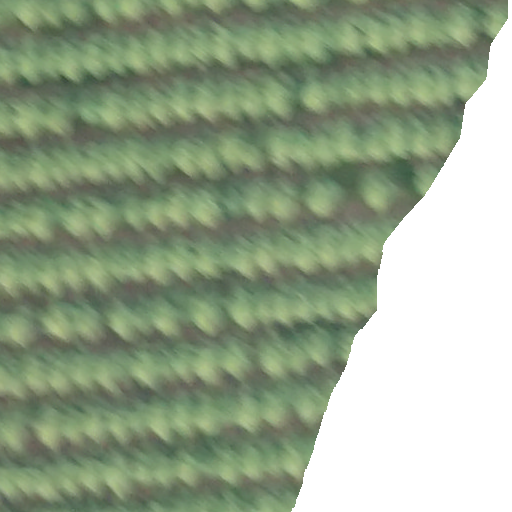eucalipto: (361, 164, 400, 219), (307, 172, 348, 222), (108, 294, 140, 343)
